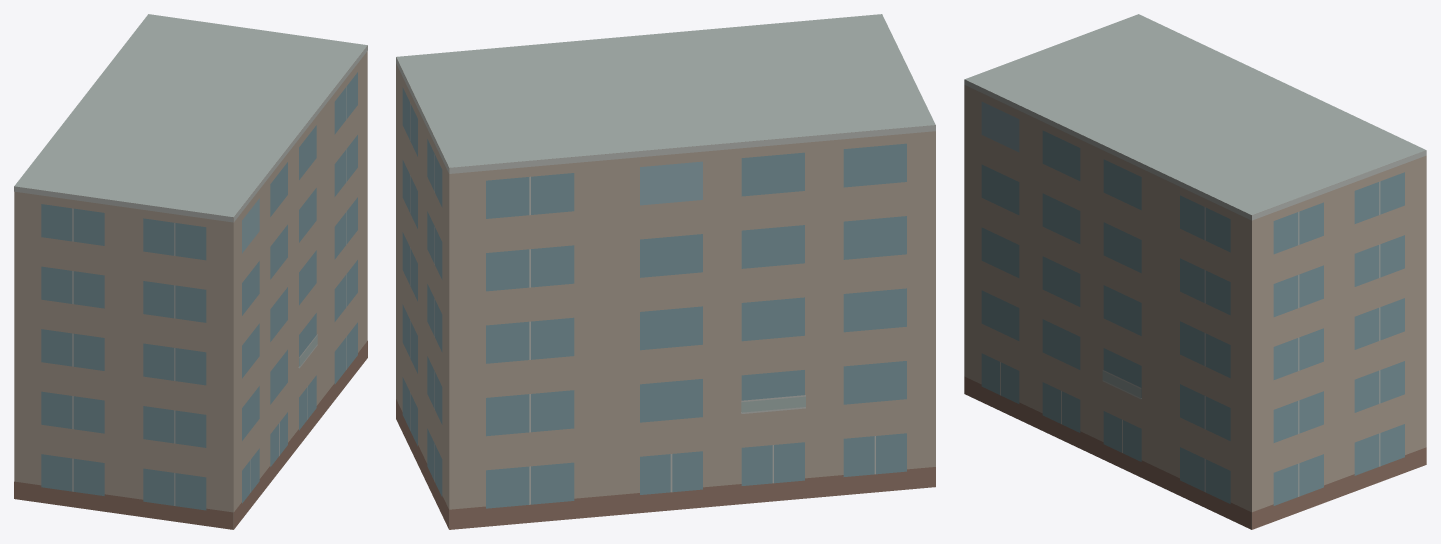
Rendered from survey-upis-32700864.glb.
3 views of the same model, side by side, from view 1: azimuth 30°, elevation 25°; view 2: azimuth 150°, elevation 25°; view 3: azimuth 270°, elevation 25° (orthographic). The views are drawn at different scales.
Parts seen in each view (by area): view 1: survey-upis-32700864.tmp; view 2: survey-upis-32700864.tmp; view 3: survey-upis-32700864.tmp.
Part boxes in pixels (bbox=[...]): survey-upis-32700864.tmp: bbox=[14, 14, 367, 529]; survey-upis-32700864.tmp: bbox=[396, 14, 935, 529]; survey-upis-32700864.tmp: bbox=[964, 14, 1426, 529].
Bounding box in the file's own units: 19.63 × 14.3 × 19.04.
